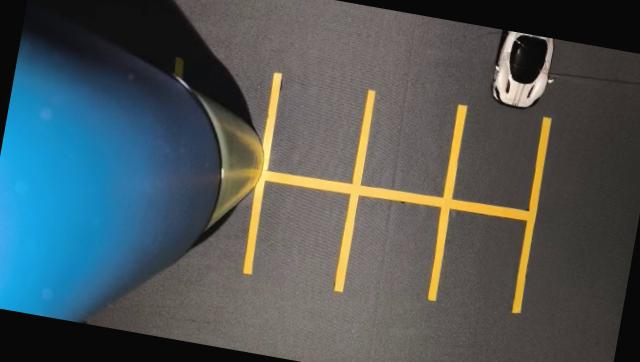toy_car: (442, 21, 588, 130)
